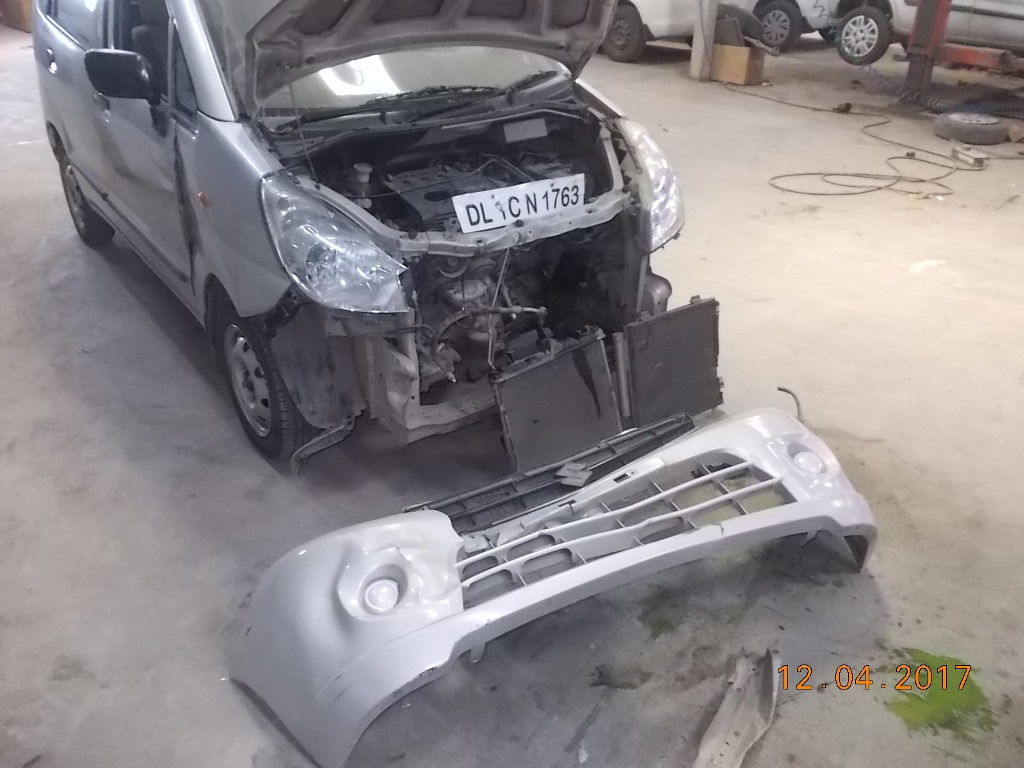Large_tear_or_damage: (227, 136, 717, 441)
